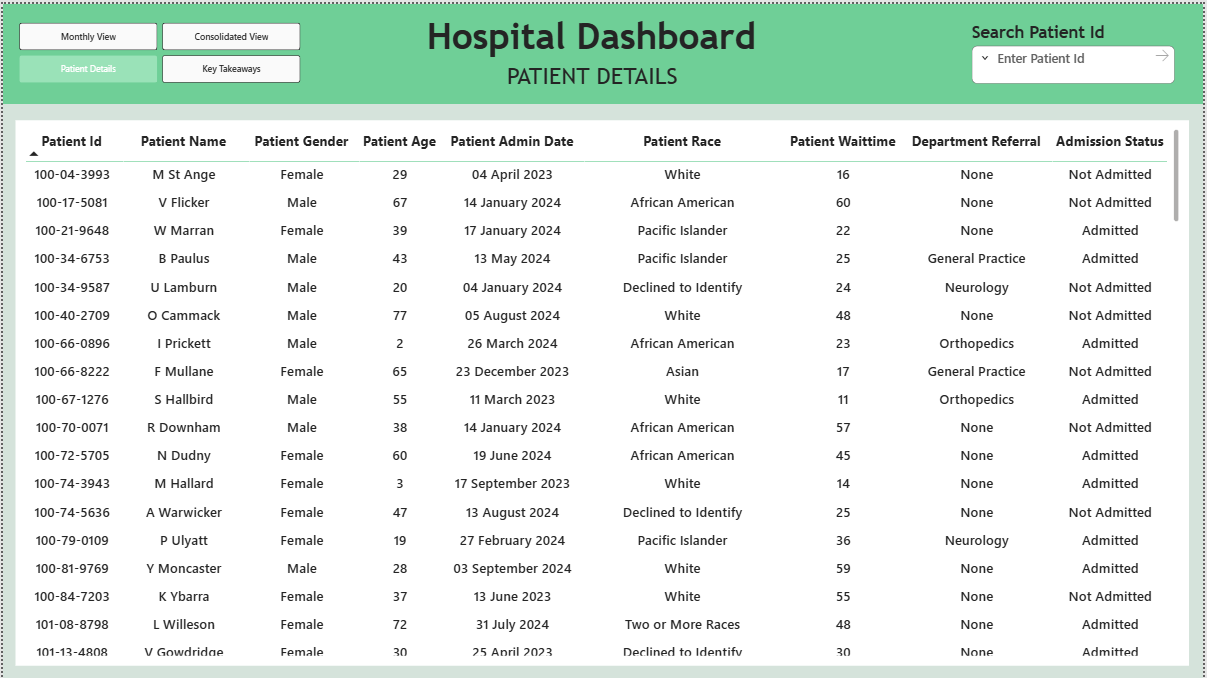

This screenshot's page, from the dashboard's own definition file:
{"tool":"powerbi","page":{"name":"Patient Details","canvas":[1920,1080],"ordinal":2},"visuals":[{"type":"shape","box":[0,0,1920,160],"z":0},{"type":"textbox","box":[677.9,16.4,810,75],"z":1000},{"type":"textbox","box":[677.5,92.5,530,65],"z":2000},{"type":"tableEx","fields":{"Values":["Hospital ER_Data.Patient Id","Hospital ER_Data.Patient Full Name","Hospital ER_Data.Patient Gender","Hospital ER_Data.Patient Age","Hospital ER_Data.Patient Admn Date","Hospital ER_Data.Patient Race","Hospital ER_Data.Patient Waittime","Hospital ER_Data.Department Referral","Hospital ER_Data.Admission Status"]},"box":[20,185,1877.5,872.5],"z":3000},{"type":"textSlicer","title":"Search Patient Id","fields":{"Values":["Hospital ER_Data.Patient Id"]},"box":[1550,30,325,97.5],"z":4000},{"type":"pageNavigator","box":[26,30,450,96],"z":4001}]}

Visuals, with their boxes in screenshot pixels (x1, y1, x2, y2), scaled from the page's 1920x1080 canvas onto the 1207x678 screenshot:
shape: 0/0/1206/100
textbox: 426/10/935/57
textbox: 426/58/759/99
tableEx - Hospital ER_Data.Patient Id x Hospital ER_Data.Patient Full Name: 13/116/1193/664
"Search Patient Id" textSlicer: 974/19/1179/80
pageNavigator: 16/19/299/79
